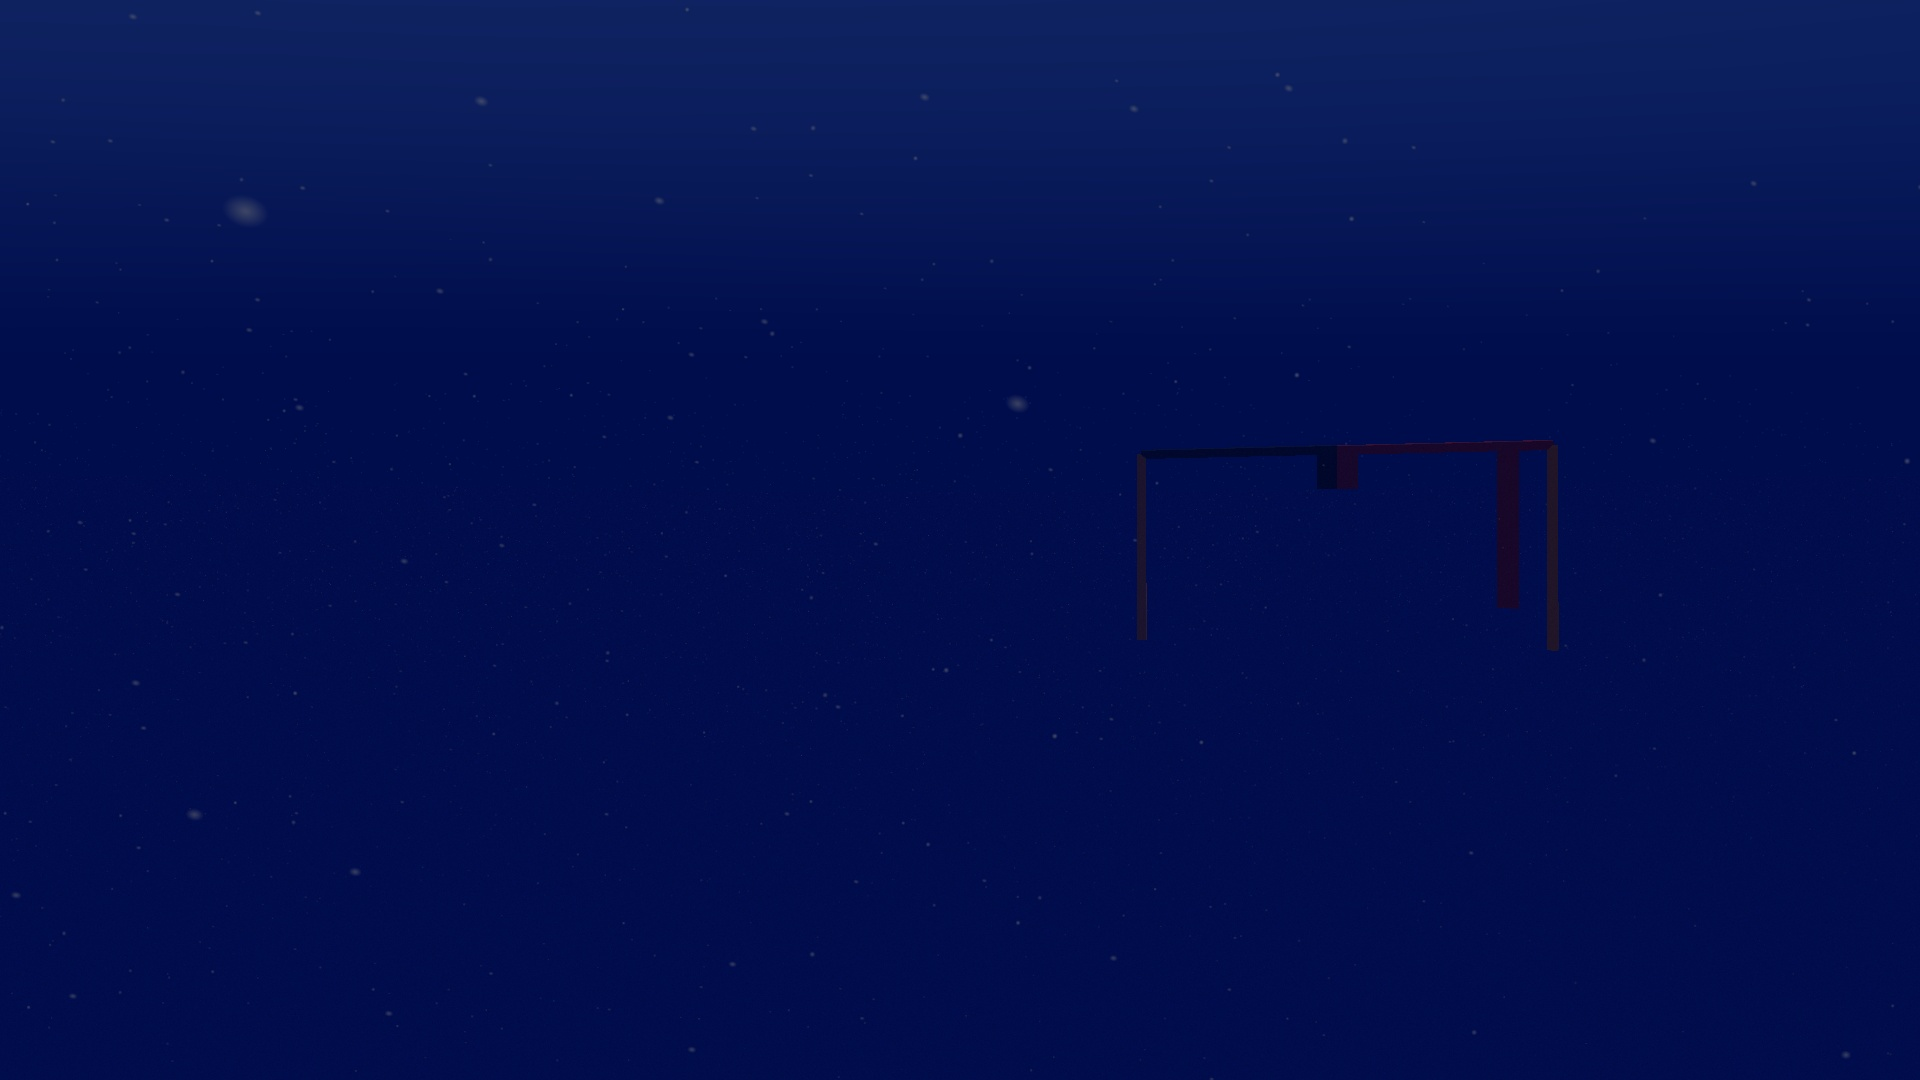Gate: (1134, 433, 1568, 661)
